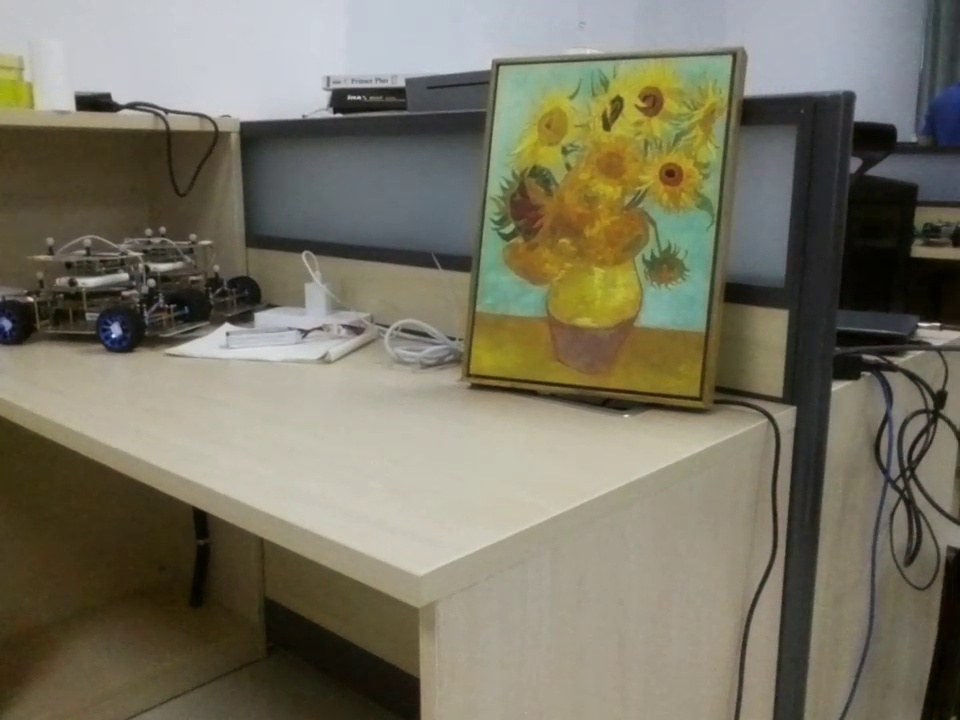painting: (471, 42, 744, 410)
